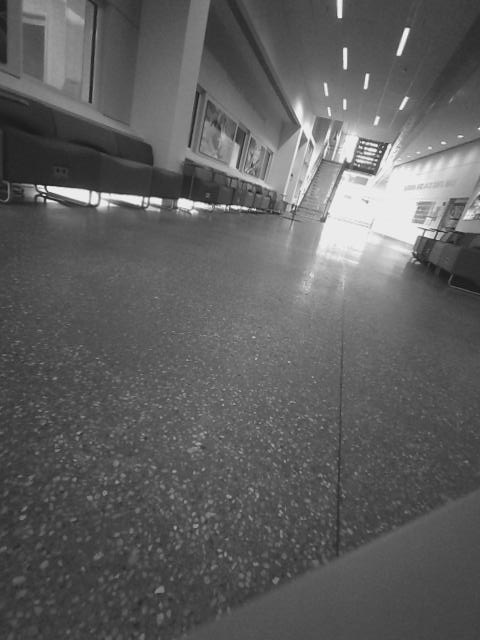ball: (382, 325, 473, 405)
